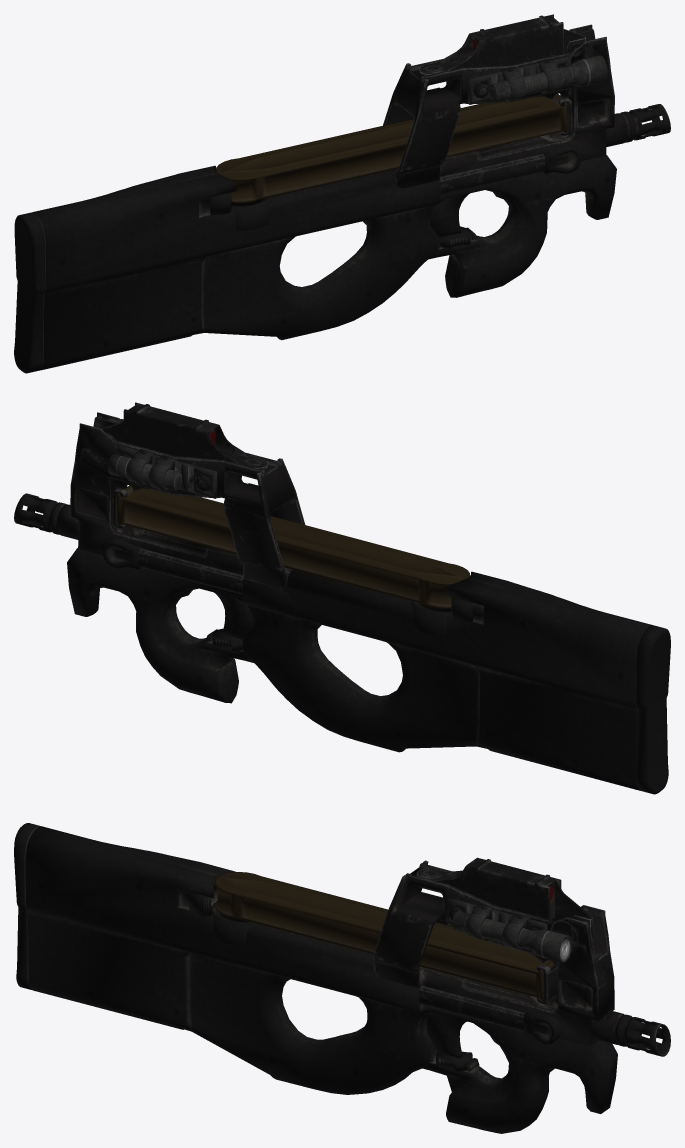
Rendered from p90_-_stargate.glb.
3 views of the same model, one above another, from view 1: azimuth 30°, elevation 25°; view 2: azimuth 150°, elevation 25°; view 3: azimuth 330°, elevation 25° (orthographic). The views are drawn at different scales.
Parts seen in each view (by area): view 1: p90_assembled_marmoset_p90_body_0, p90_assembled_marmoset_p90_accessories_0; view 2: p90_assembled_marmoset_p90_body_0, p90_assembled_marmoset_p90_accessories_0; view 3: p90_assembled_marmoset_p90_body_0, p90_assembled_marmoset_p90_accessories_0.
Part boxes in pixels (bbox=[...]): p90_assembled_marmoset_p90_body_0: bbox=[14, 24, 670, 373]; p90_assembled_marmoset_p90_accessories_0: bbox=[419, 14, 607, 104]; p90_assembled_marmoset_p90_body_0: bbox=[14, 412, 670, 794]; p90_assembled_marmoset_p90_accessories_0: bbox=[101, 402, 268, 498]; p90_assembled_marmoset_p90_body_0: bbox=[14, 823, 670, 1133]; p90_assembled_marmoset_p90_accessories_0: bbox=[416, 857, 593, 962].
Bounding box in the file's own units: 17.02 × 6.74 × 2.15.
Materials: 3 (2 with a texture image).
